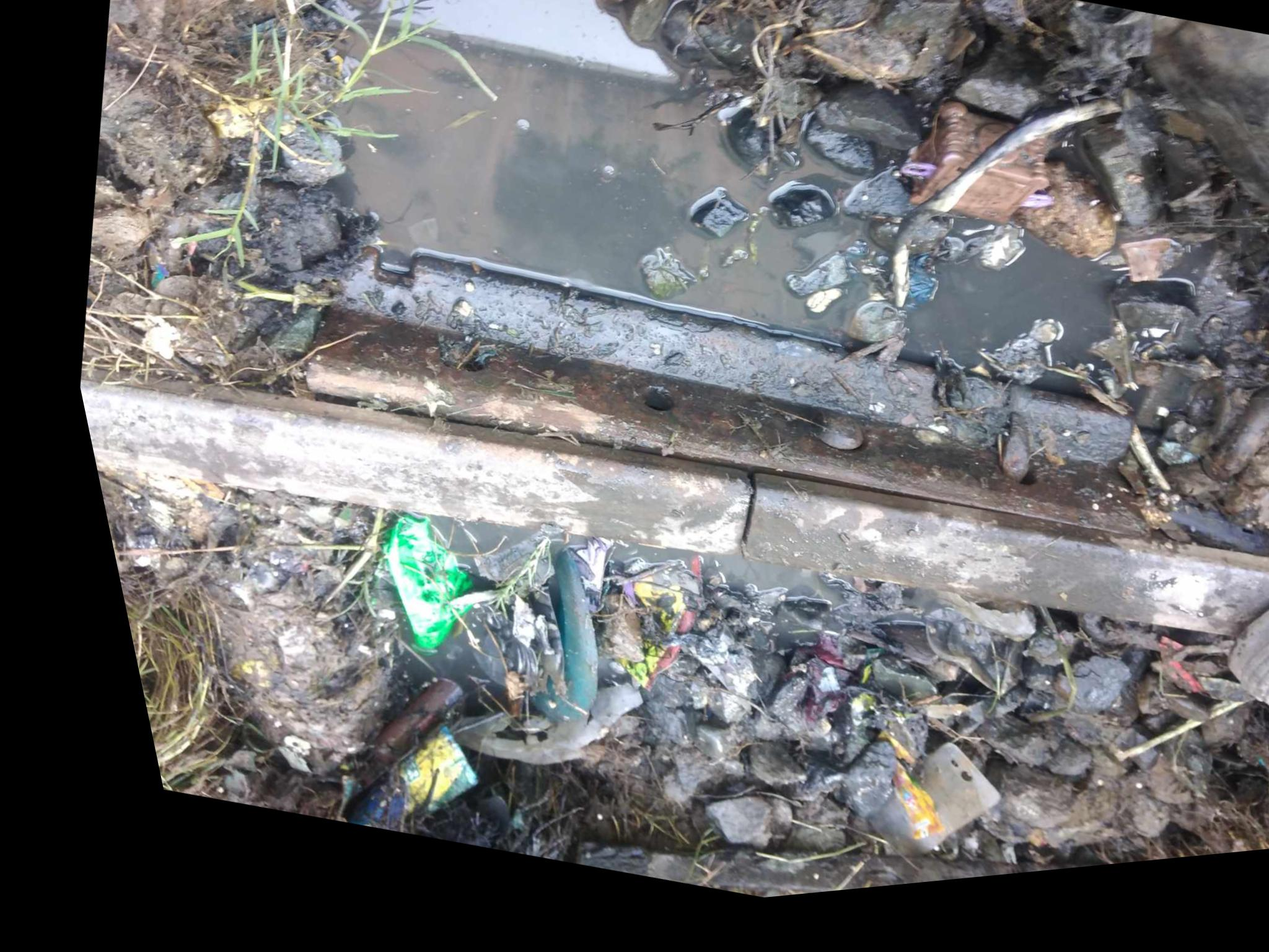person: (610, 423, 838, 632)
